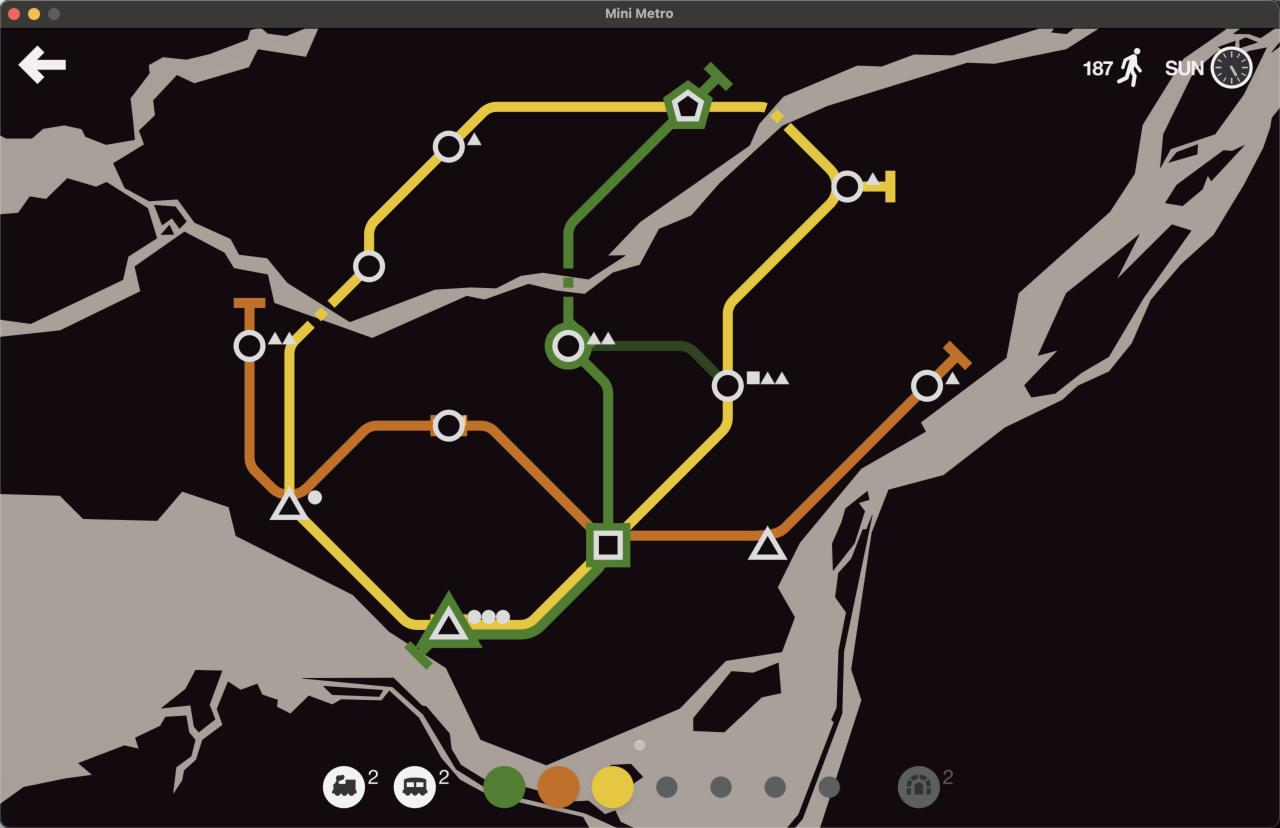CIRCLE: (432, 129, 467, 164), (910, 368, 945, 403), (551, 329, 585, 363), (352, 249, 386, 282), (711, 369, 745, 402), (831, 169, 864, 202), (233, 329, 266, 362)
PENTAGON: (431, 409, 468, 443), (670, 89, 705, 123)
SQUARE: (592, 529, 624, 561)
TRIANGLE: (747, 523, 789, 562), (428, 606, 470, 642), (269, 485, 310, 521)
